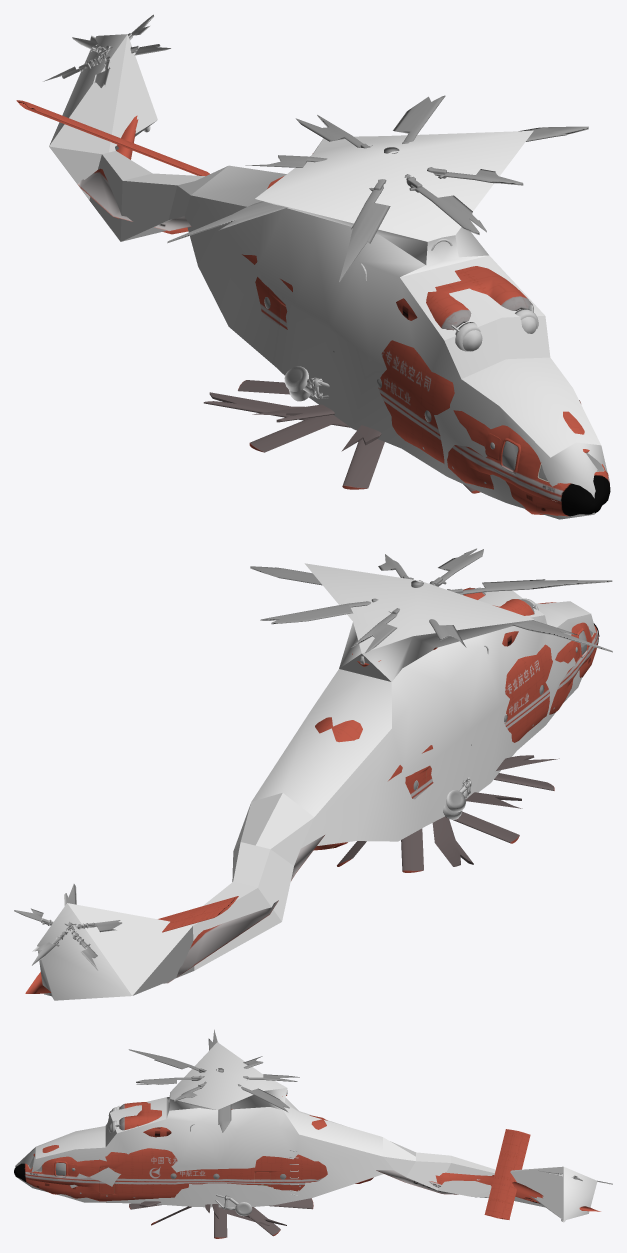
The model's file is posui.FBX.
3 views of the same model, one above another, from view 1: azimuth 30°, elevation 25°; view 2: azimuth 150°, elevation 25°; view 3: azimuth 270°, elevation 25° (orthographic). The views are drawn at different scales.
Visible parts, largest first — view 1: collidler, m26_neicang01, m26_xuanyi_wai02, m26_xuanyi_wai01, m26_xuanyi_wai04, m26_xuanyi_wai05; view 2: collidler, m26_neicang01, m26_xuanyi_wai04, m26_xuanyi_wai08, m26_xuanyi_wai01; view 3: collidler, m26_neicang01, m26_xuanyi_wai05, m26_xuanyi_wai06.
Part boxes in pixels (x1,y1,x2,y2): collidler: [49, 34, 607, 519]; m26_neicang01: [16, 14, 610, 516]; m26_xuanyi_wai02: [342, 439, 384, 489]; m26_xuanyi_wai01: [249, 414, 340, 452]; m26_xuanyi_wai04: [203, 392, 580, 427]; m26_xuanyi_wai05: [252, 404, 334, 422]; collidler: [37, 563, 596, 1000]; m26_neicang01: [14, 548, 612, 993]; m26_xuanyi_wai04: [432, 817, 473, 866]; m26_xuanyi_wai08: [401, 828, 423, 872]; m26_xuanyi_wai01: [445, 811, 519, 843]; collidler: [15, 1042, 597, 1220]; m26_neicang01: [14, 1029, 612, 1222]; m26_xuanyi_wai05: [214, 1207, 227, 1238]; m26_xuanyi_wai06: [248, 1207, 280, 1236].
Bounding box in the file's own units: 16.24 × 10.09 × 39.17.
